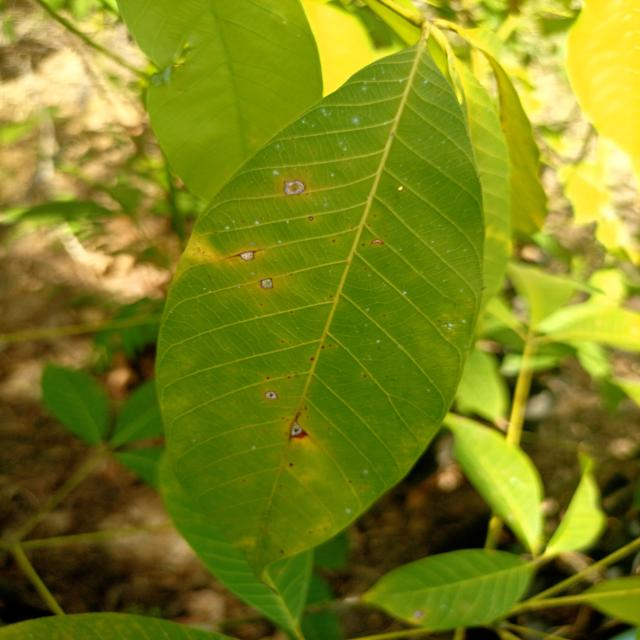Colletotrichum: (284, 180, 306, 196), (239, 250, 256, 260), (260, 278, 274, 289), (264, 391, 278, 398), (308, 216, 314, 221)
